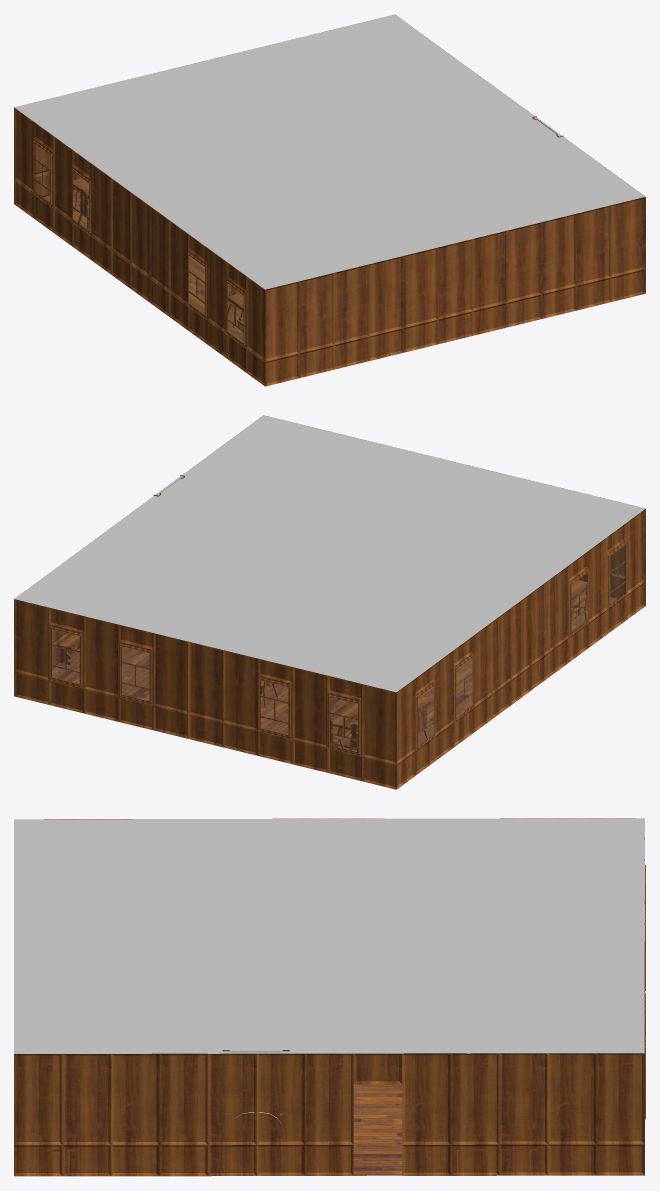
File: buergerstube.fbx
3 views of the same model, one above another, from view 1: azimuth 30°, elevation 25°; view 2: azimuth 150°, elevation 25°; view 3: azimuth 270°, elevation 25° (orthographic). The views are drawn at different scales.
Visible parts, largest first — view 1: buergerszube_ceiling, bürgerstube_walls, buergerstube_floor, buergerstube_window.015, buergerstube_window.014, buergerstube_window.013, buergerstube_window.016; view 2: buergerszube_ceiling, bürgerstube_walls, buergerstube_floor, buergerstube_window.010, buergerstube_window.009, buergerstube_window.011, buergerstube_window.012, buergerstube_window.013, buergerstube_window.016, buergerstube_window.014, buergerstube_window.015, table.005; view 3: buergerszube_ceiling, bürgerstube_walls, buergerstube_floor.
Part boxes in pixels (box(x1,y1,x2,y2)): buergerszube_ceiling: box(14, 14, 645, 289); bürgerstube_walls: box(14, 14, 645, 386); buergerstube_floor: box(43, 189, 243, 342); buergerstube_window.015: box(187, 250, 207, 319); buergerstube_window.014: box(71, 166, 91, 235); buergerstube_window.013: box(33, 138, 52, 207); buergerstube_window.016: box(226, 278, 245, 347); buergerszube_ceiling: box(14, 415, 645, 692); bürgerstube_walls: box(14, 416, 645, 789); buergerstube_floor: box(52, 592, 617, 751); buergerstube_window.010: box(118, 641, 153, 705); buergerstube_window.009: box(48, 624, 83, 688); buergerstube_window.011: box(257, 675, 292, 739); buergerstube_window.012: box(327, 692, 361, 756); buergerstube_window.013: box(415, 681, 435, 750); buergerstube_window.016: box(607, 539, 627, 608); buergerstube_window.014: box(454, 653, 473, 722); buergerstube_window.015: box(569, 568, 588, 637); table.005: box(330, 696, 433, 750); buergerszube_ceiling: box(14, 818, 644, 1053); bürgerstube_walls: box(14, 818, 644, 1176); buergerstube_floor: box(95, 1084, 402, 1176).
Bounding box in the file's own units: 1020 × 251 × 1154.
